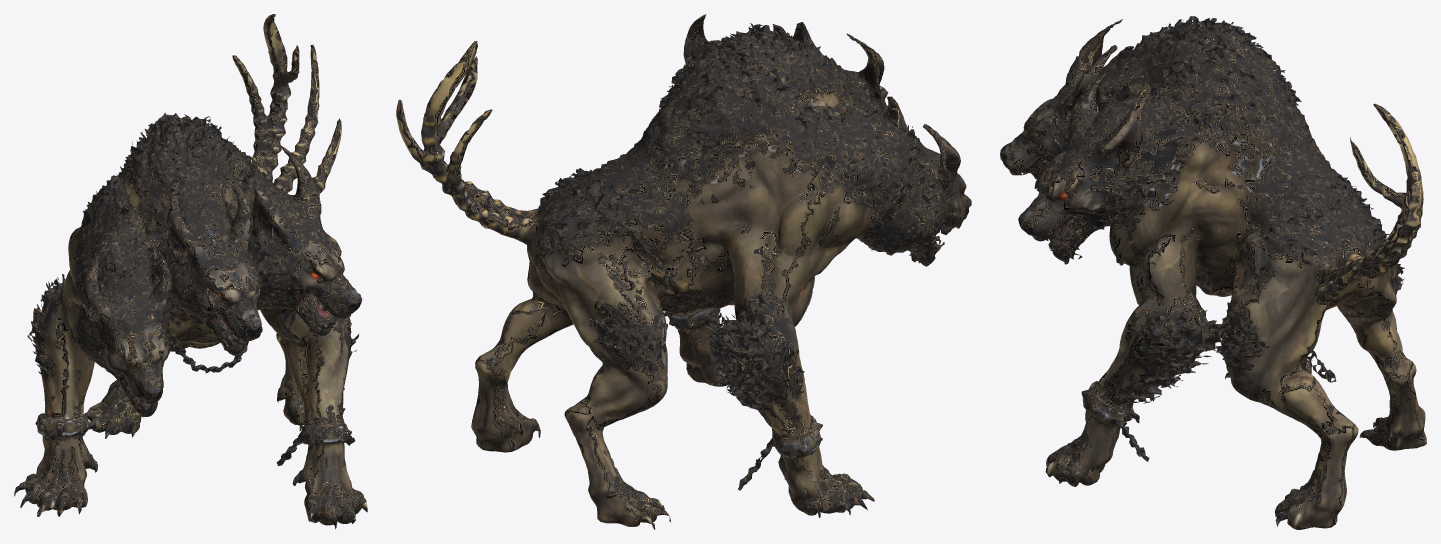
Rendered from cerberus__unleashed.glb.
The picture shows the model from 3 angles, left to right: view 1: azimuth 30°, elevation 25°; view 2: azimuth 150°, elevation 25°; view 3: azimuth 270°, elevation 25°; orthographic projection. The views are drawn at different scales.
Parts seen in each view (by area): view 1: Mesh_0; view 2: Mesh_0; view 3: Mesh_0.
Part boxes in pixels (x1,y1,x2,y2): Mesh_0: (14,14,367,529); Mesh_0: (396,14,971,529); Mesh_0: (1000,16,1426,529).
Bounding box in the file's own units: 1.87 × 1.88 × 1.73.
Materials: 1 (1 with a texture image).
